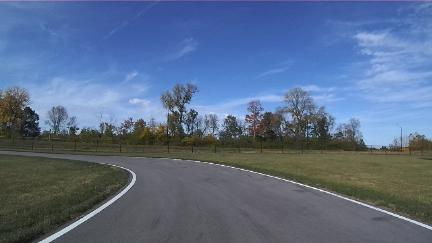Grass: (57, 152, 431, 222), (0, 155, 129, 242)
Lane: (0, 152, 431, 242)
